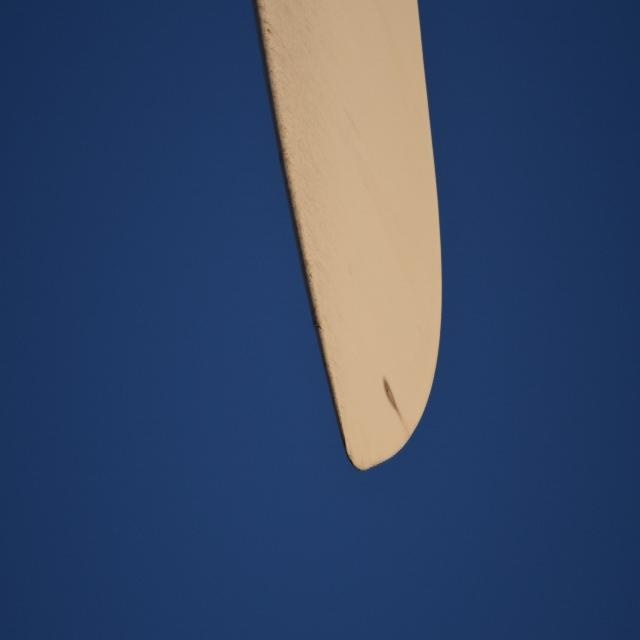Burn Mark: (382, 376, 400, 418)
EROSION: (247, 5, 327, 342)
